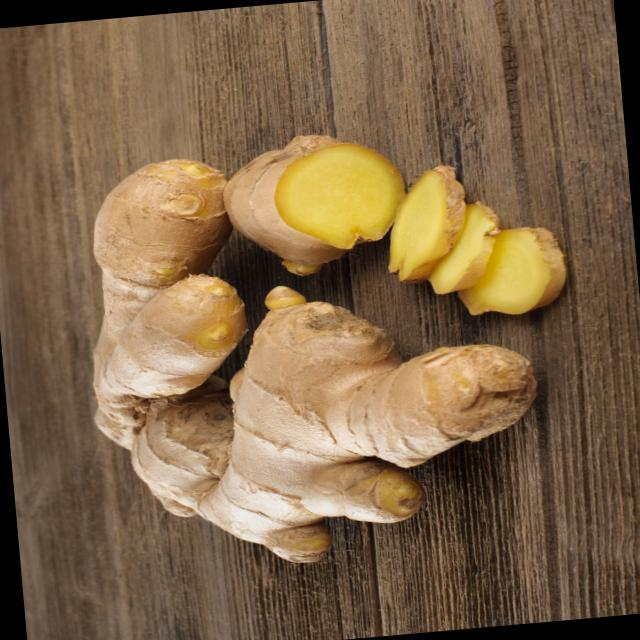ginger-root: (46, 133, 590, 591)
